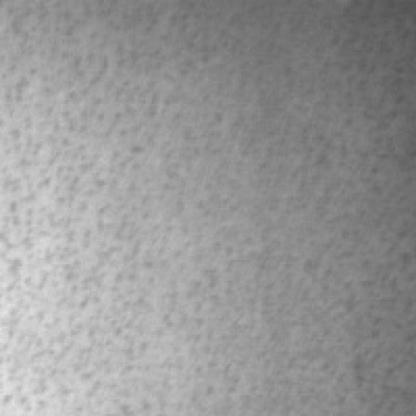pitted_surface: (2, 4, 204, 404), (314, 4, 410, 406)
